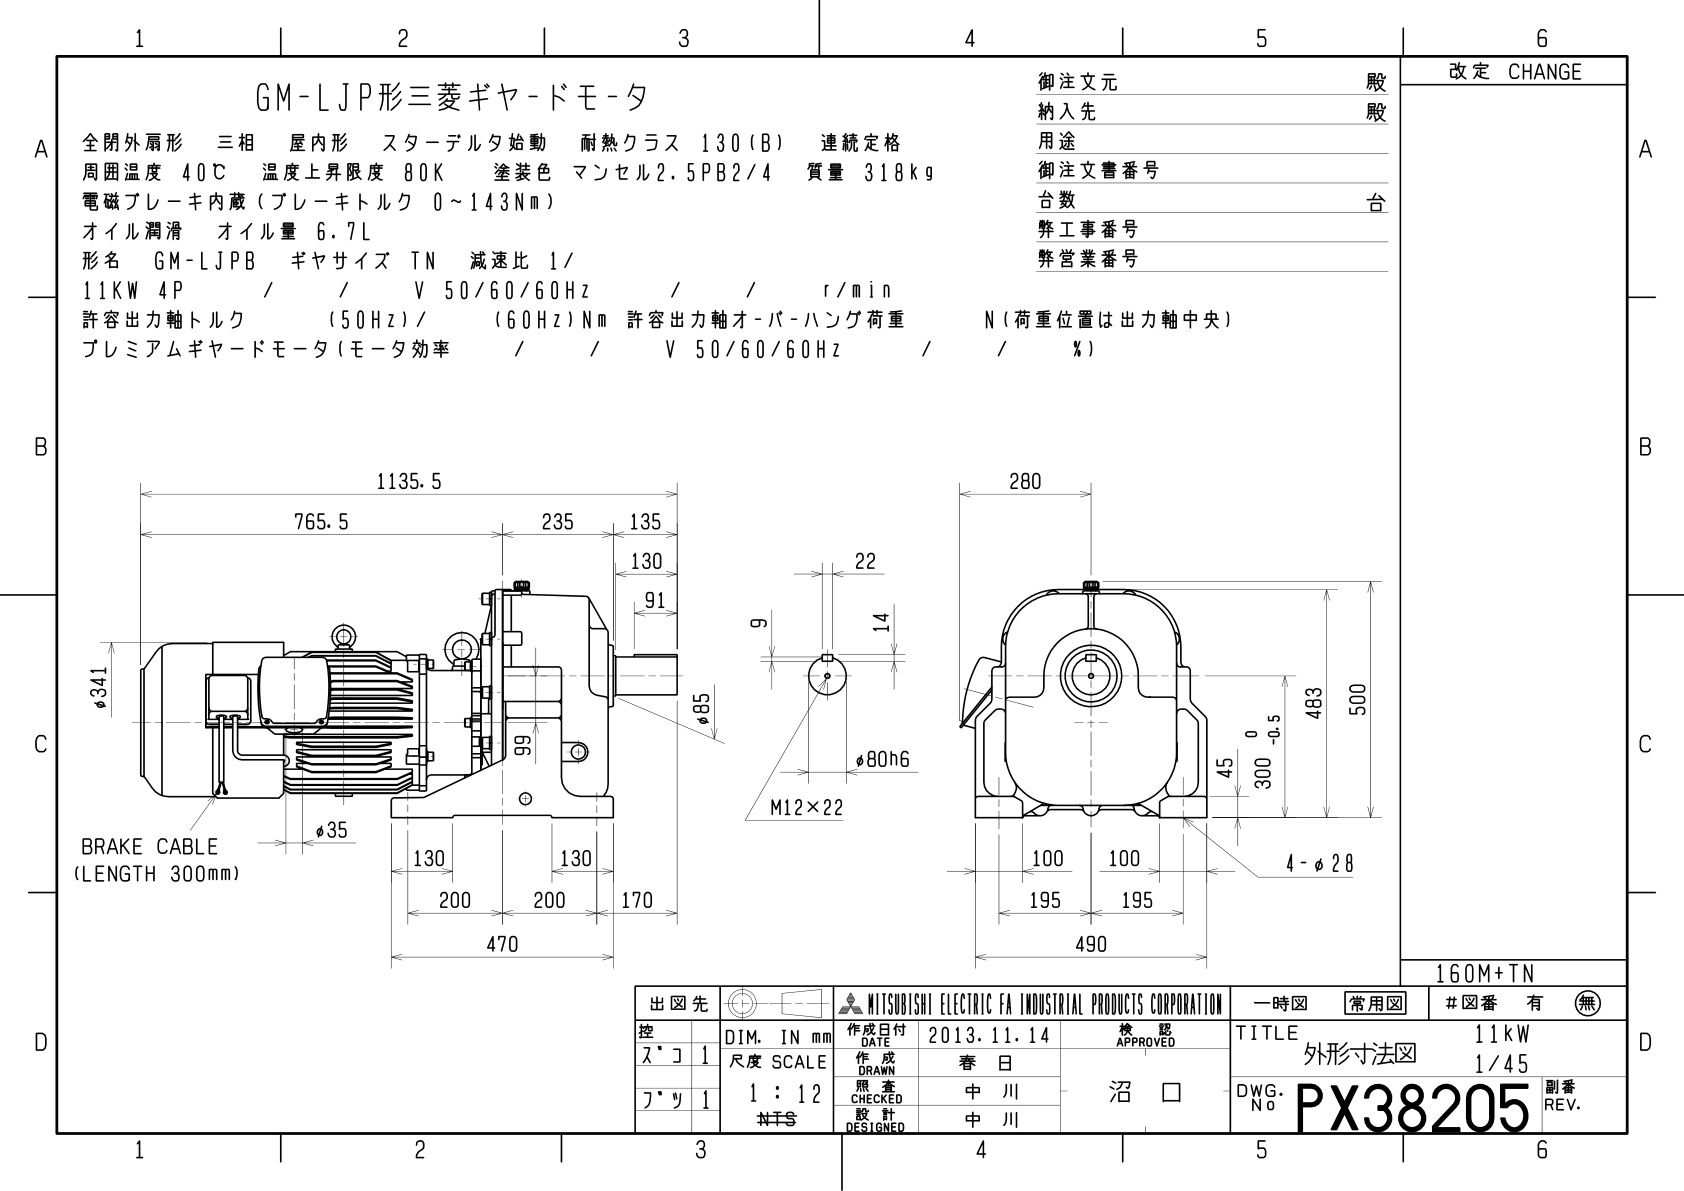GM_LJP_屋内_三相_脚: (67, 429, 1386, 971)
